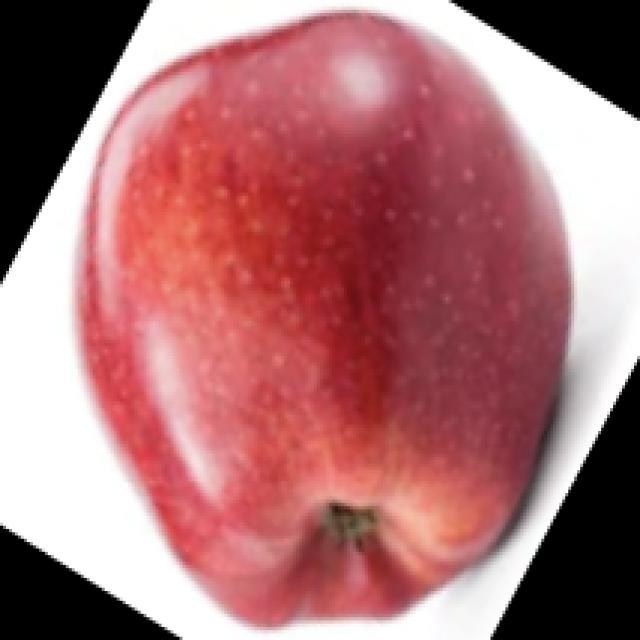Fresh Apple: (73, 15, 576, 631)
